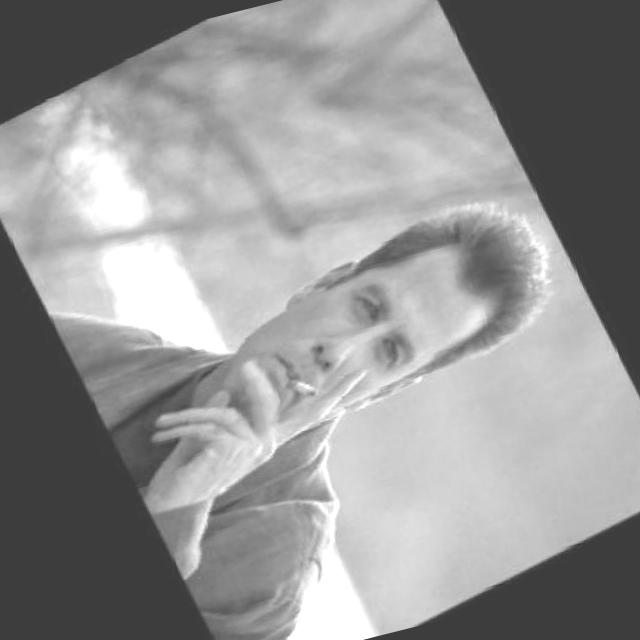cigarette: (282, 367, 322, 408)
